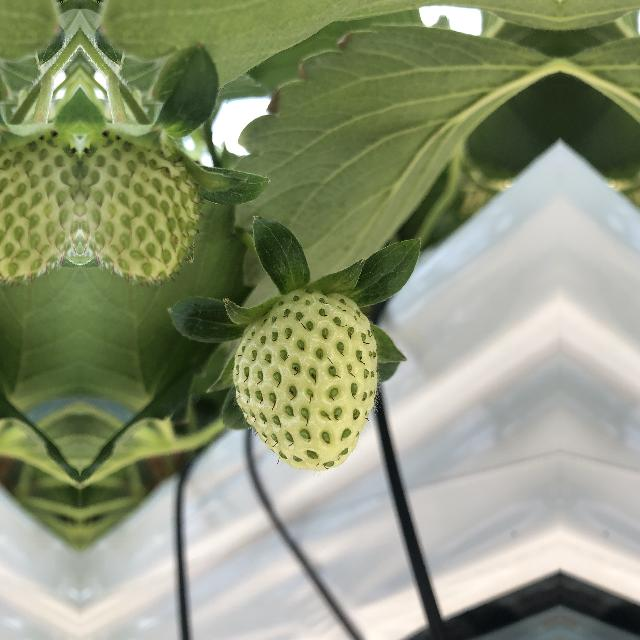Health_25: (222, 285, 380, 471), (80, 123, 202, 289), (0, 123, 80, 289)
